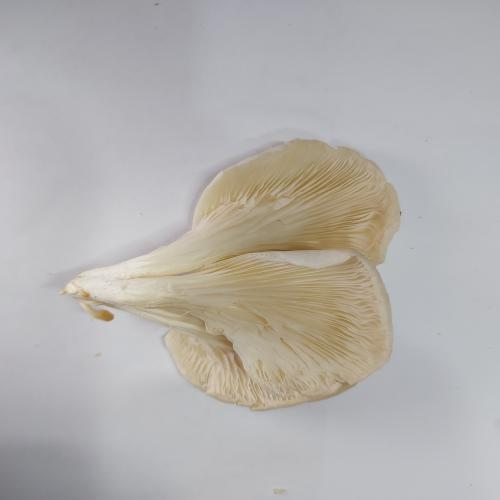Oyster Mushroom: (59, 138, 402, 412)
